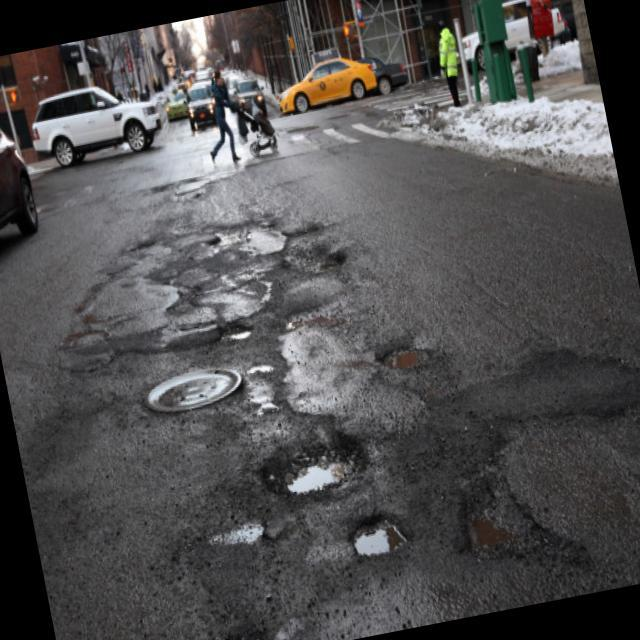Pothole: (448, 456, 564, 584), (252, 417, 368, 494), (188, 188, 288, 268), (200, 512, 290, 576), (366, 318, 445, 390), (284, 237, 359, 306), (337, 503, 429, 558), (225, 342, 288, 392), (222, 317, 286, 355)
